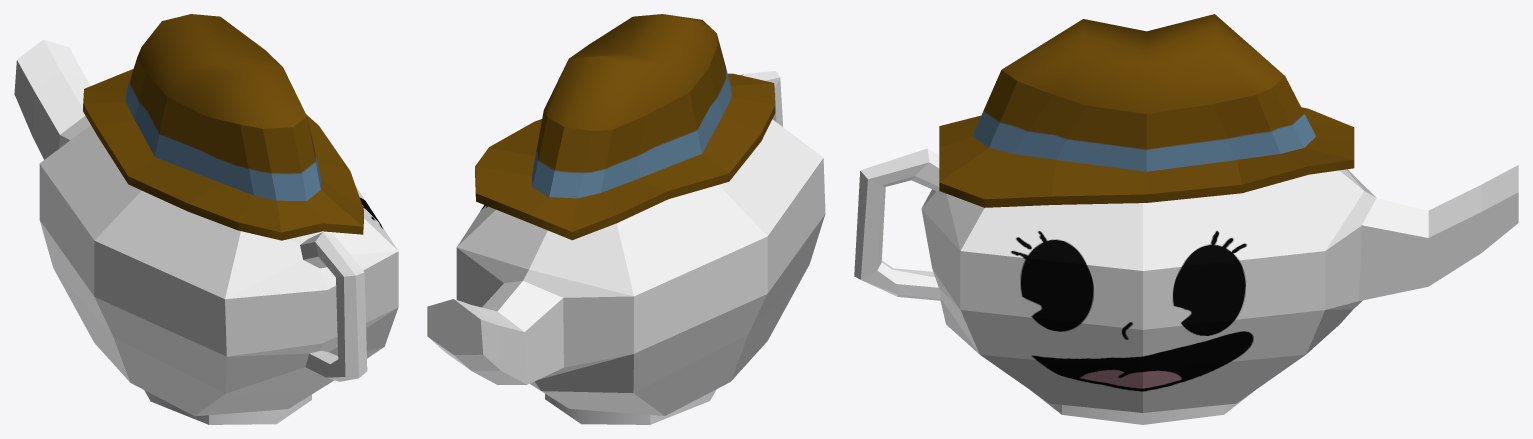
Rendered from teapotT.FBX.
3 views of the same model, side by side, from view 1: azimuth 30°, elevation 25°; view 2: azimuth 150°, elevation 25°; view 3: azimuth 270°, elevation 25° (orthographic). The views are drawn at different scales.
Parts seen in each view (by area): view 1: Box001, Box002; view 2: Box001, Box002; view 3: Box001, Box002.
Boxes of the visible parts, x1=… form: Box001: x1=14, y1=39, x2=398, y2=424; Box002: x1=83, y1=14, x2=363, y2=240; Box001: x1=427, y1=71, x2=825, y2=424; Box002: x1=475, y1=14, x2=775, y2=240; Box001: x1=854, y1=148, x2=1518, y2=424; Box002: x1=939, y1=14, x2=1354, y2=207.
Bounding box in the file's own units: 0.6403 × 0.8218 × 1.37.
1 material, 1 textured.
